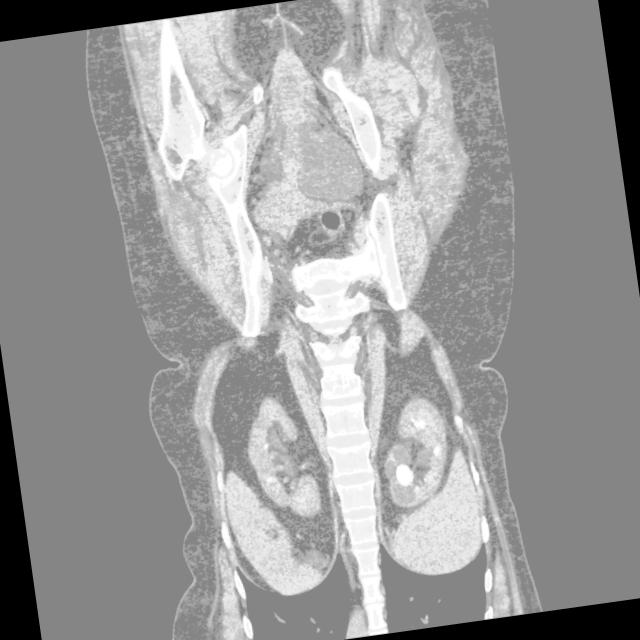STONE: (153, 224, 557, 540)
